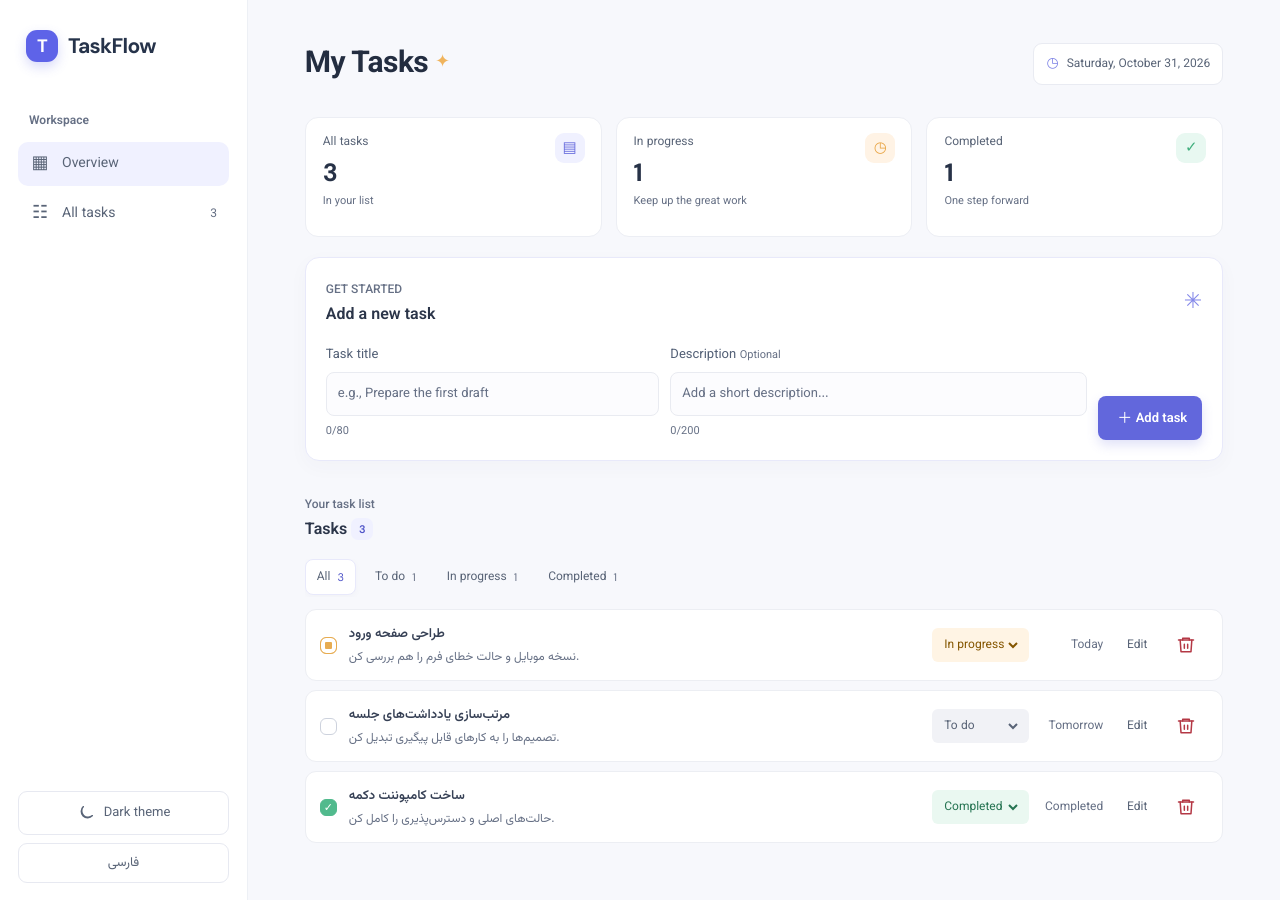
Test case: TaskFlow dashboard › asks before deleting and removes a confirmed task
Click the button named "Delete طراحی صفحه ورود" at (1186, 645), box [1164, 623, 1208, 667]
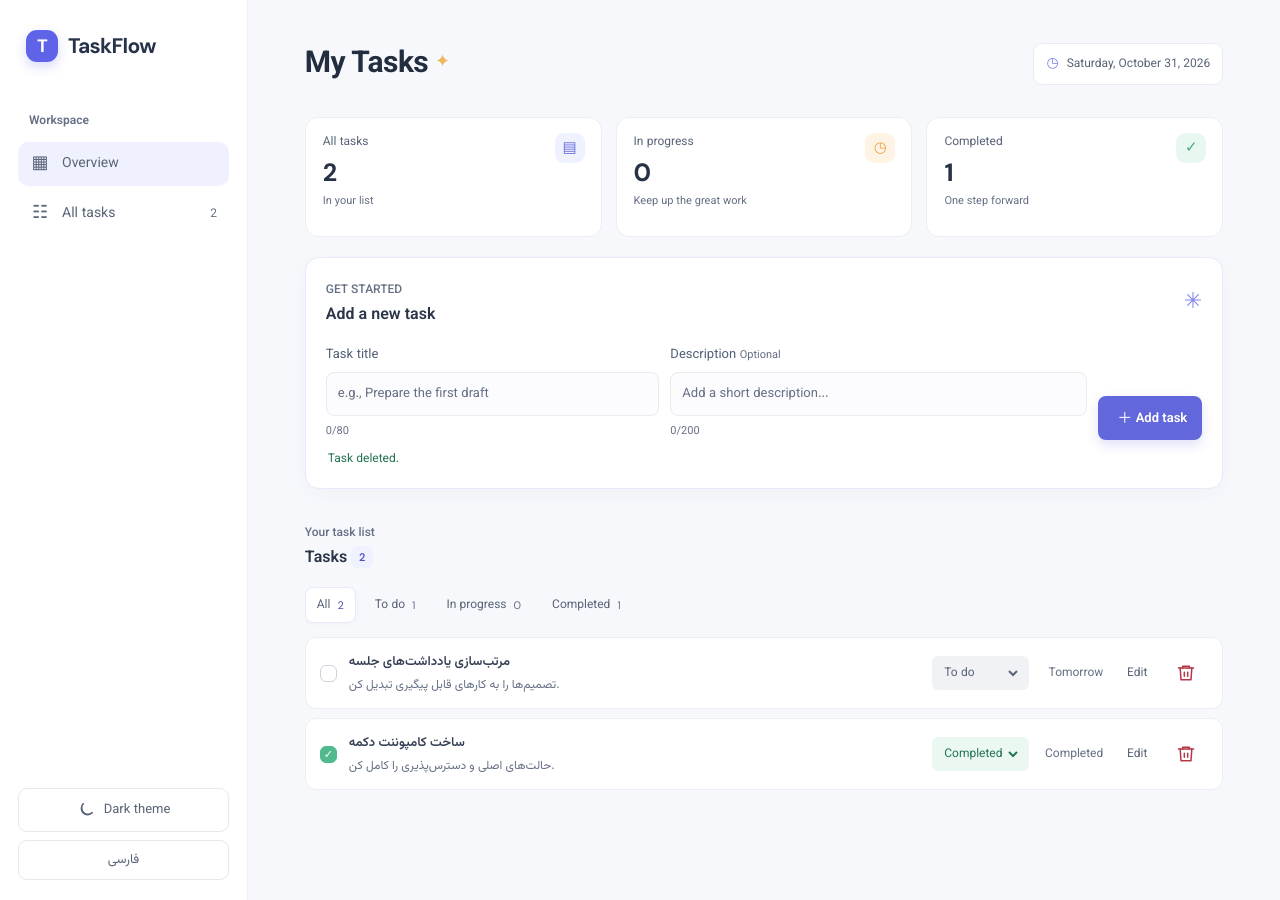
Check: the heading "طراحی صفحه ورود" is gone
